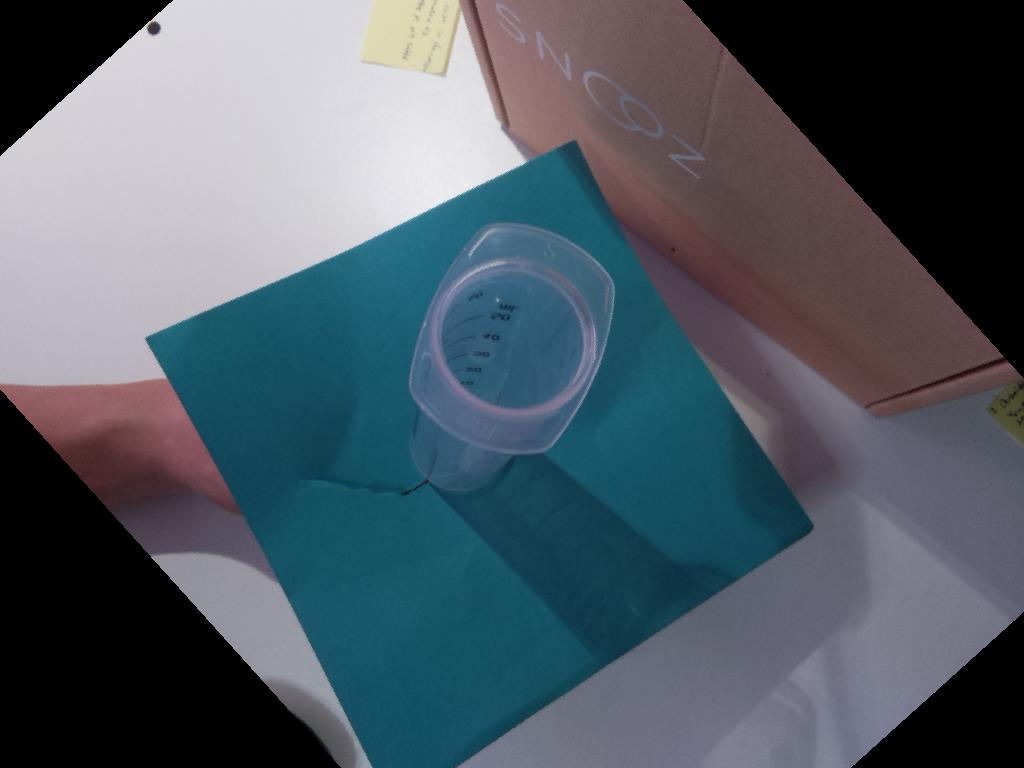clean: (408, 221, 619, 455)
